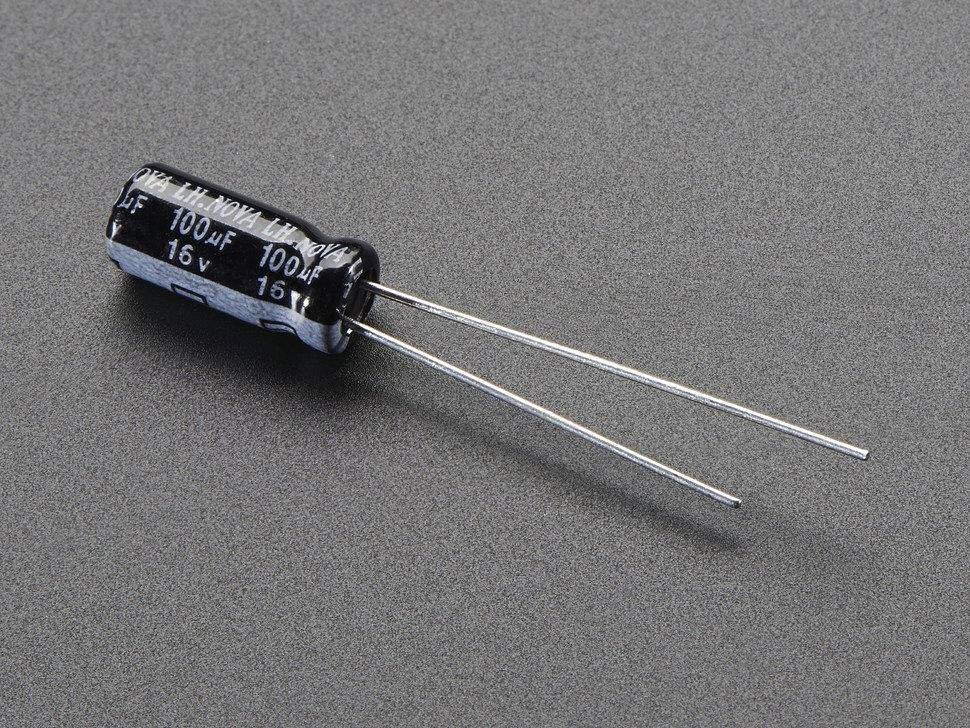capacitor: (71, 117, 485, 460)
